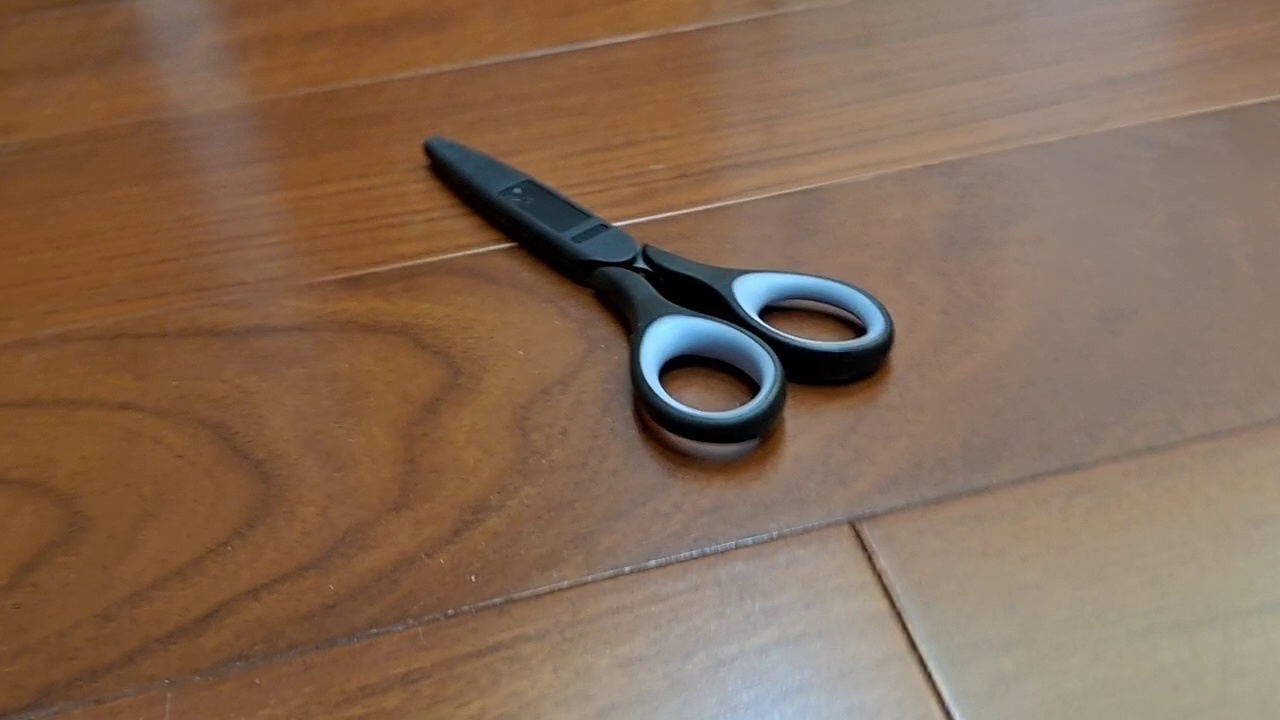scissors: (421, 135, 896, 446)
